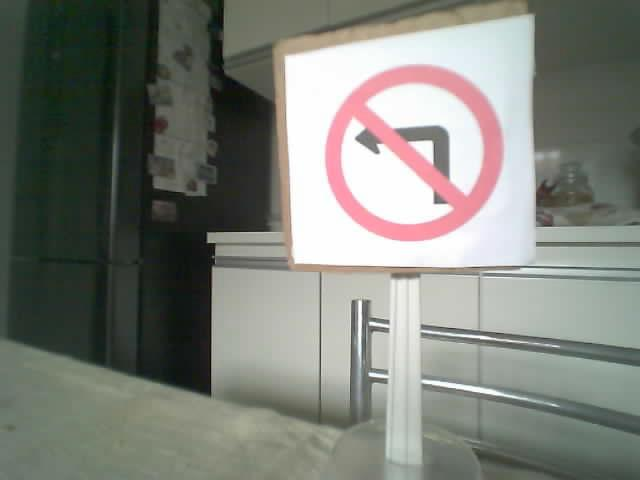R-4a_proibido-esquerda: (325, 62, 502, 242)
